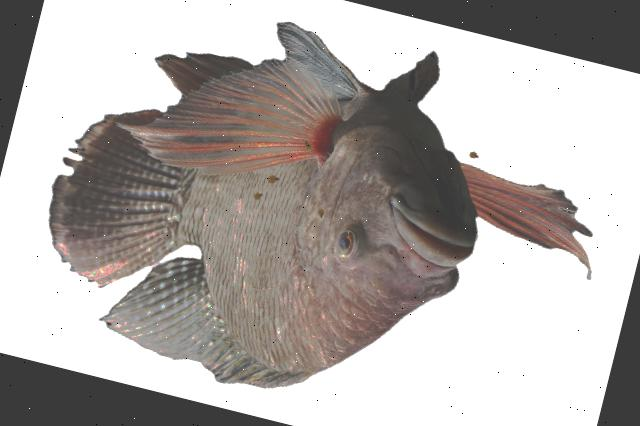Parasitic Disease: (50, 22, 591, 386), (50, 22, 590, 386)
